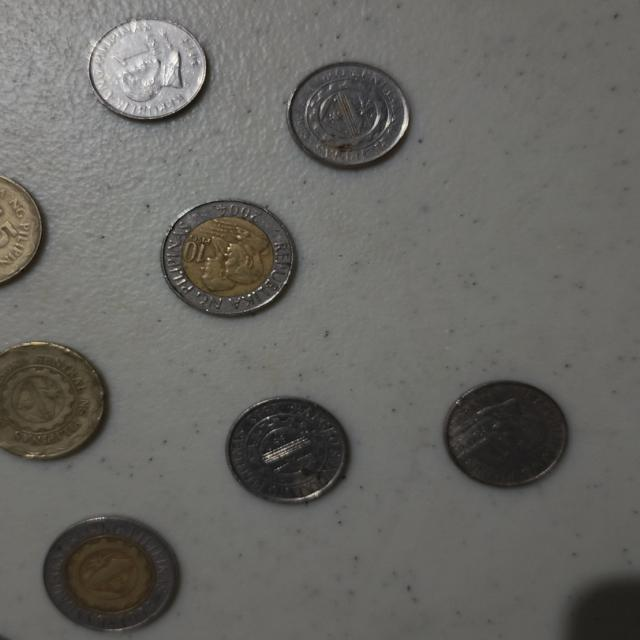10_peso: (43, 516, 177, 630), (163, 201, 294, 315)
1_peso: (227, 397, 348, 503), (288, 62, 408, 167), (446, 382, 567, 485), (89, 19, 205, 119)
5_peso: (0, 343, 103, 459)
